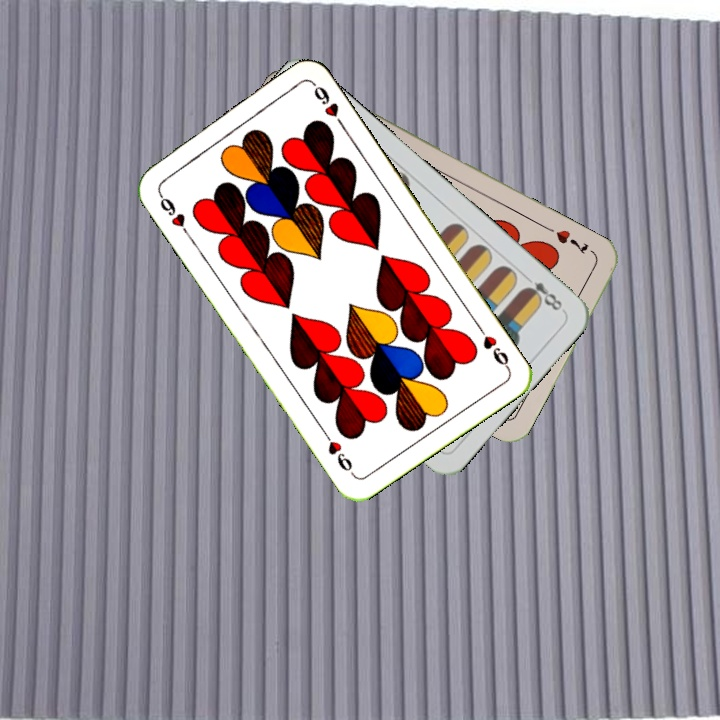E8: (519, 270, 565, 314)
H7: (542, 223, 591, 257)
H9: (473, 320, 513, 372), (154, 187, 193, 239)
